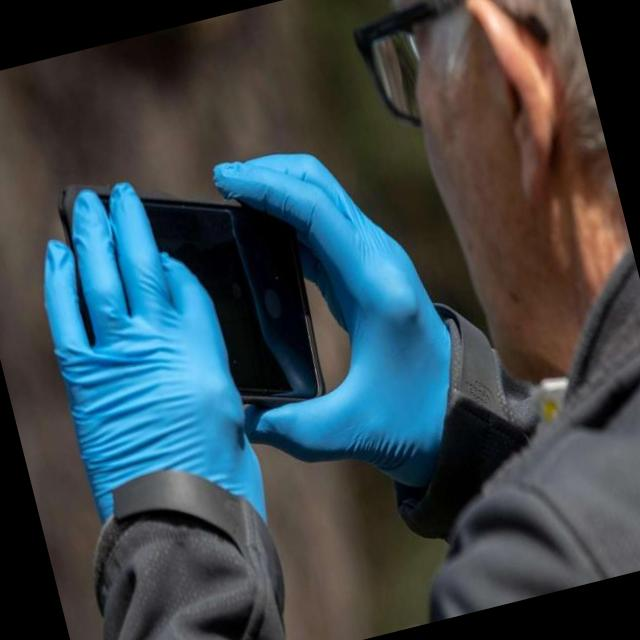Gloves: (181, 118, 486, 516), (19, 179, 282, 553)
